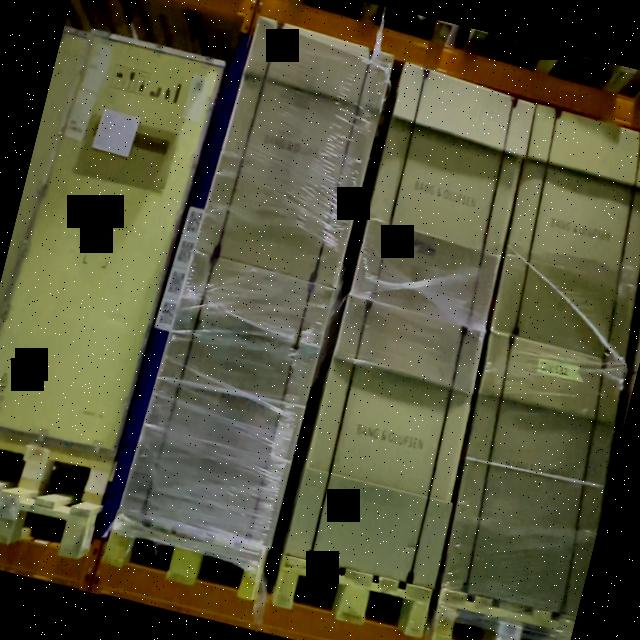box: (128, 263, 330, 547), (287, 303, 483, 582), (202, 22, 394, 290), (354, 72, 535, 326), (491, 112, 640, 356)
